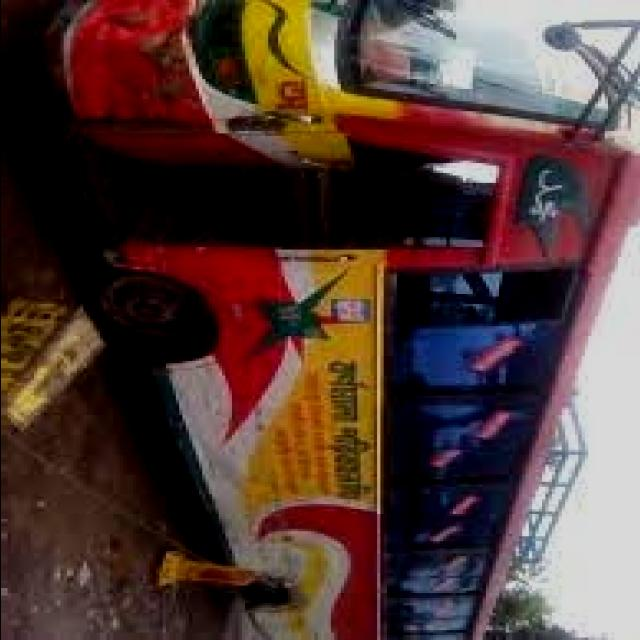bus: (14, 7, 640, 629)
